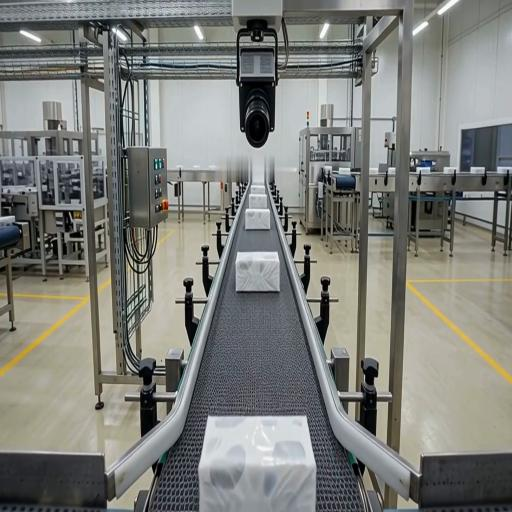good: (200, 414, 315, 510), (234, 252, 280, 293), (245, 208, 271, 230), (247, 193, 268, 209), (250, 183, 266, 194)
